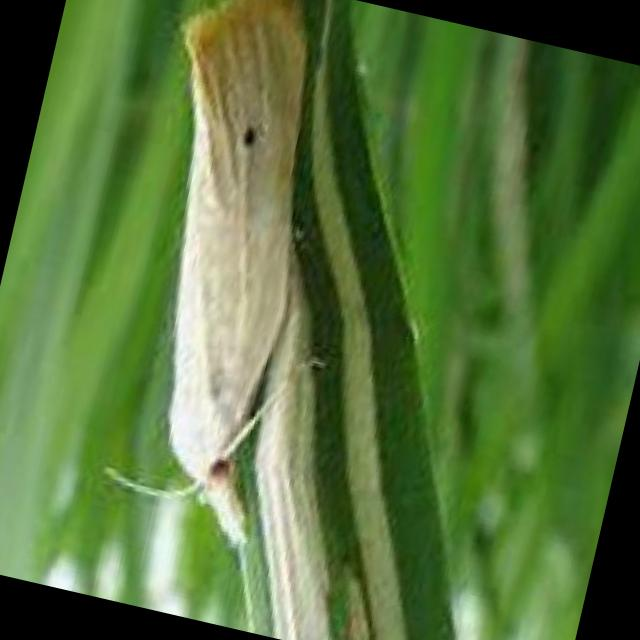stem-borer: (73, 0, 377, 547)
